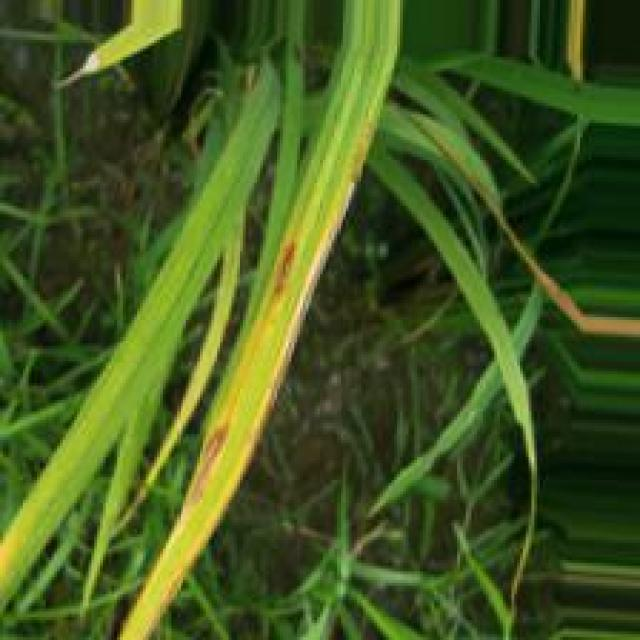Narrow_Brown_Leaf_Spot: (177, 418, 229, 519), (265, 240, 297, 316)
